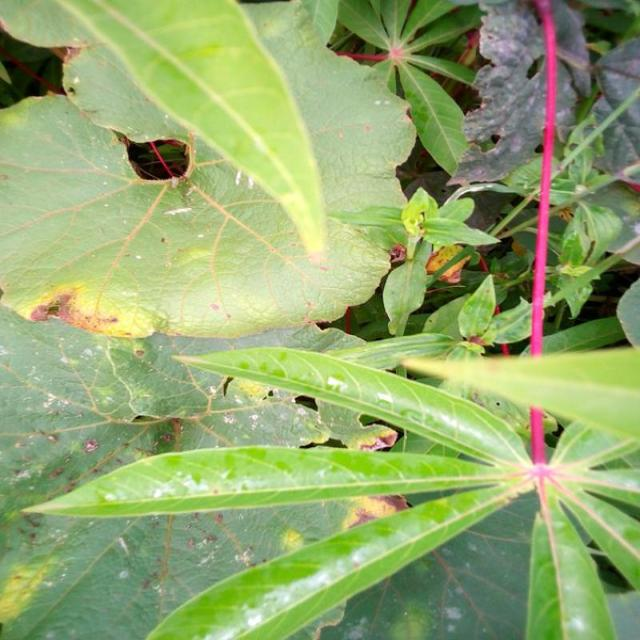cassava leaf: (2, 0, 639, 639), (1, 0, 418, 339)
